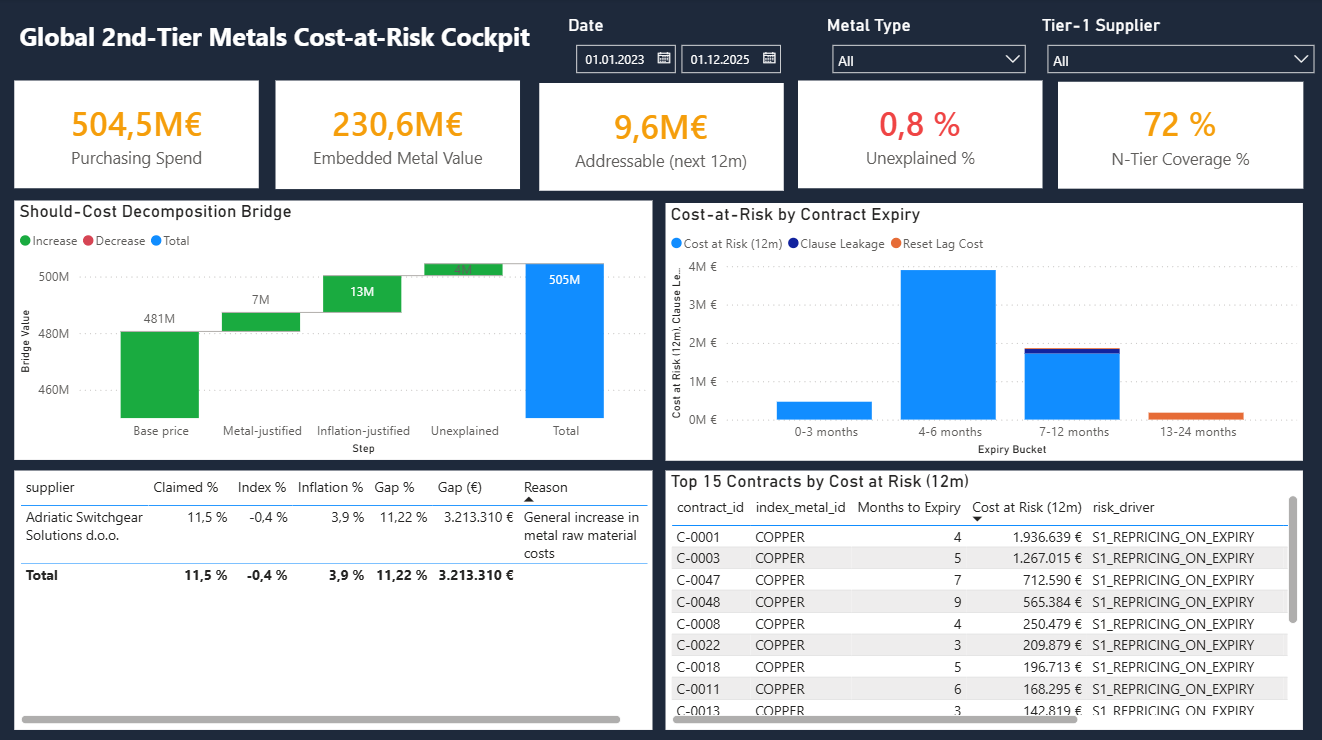

What the dashboard file says about the page in this screenshot:
{"tool":"powerbi","page":{"name":"Page 1","canvas":[1280,720],"ordinal":0},"visuals":[{"type":"textbox","box":[16.3,16.3,525,54.6],"z":0},{"type":"slicer","title":"Date","fields":{"Values":["dim_date.year_month"]},"box":[544.8,16.3,250.9,65],"z":1000},{"type":"slicer","title":"Metal Type","fields":{"Values":["dim_metal.metal_id"]},"box":[795.6,16.3,206.8,65],"z":2000},{"type":"slicer","title":"Tier-1 Supplier","fields":{"Values":["dim_supplier_tier1.tier1_name"]},"box":[1002.4,16.3,277.6,65],"z":3000},{"type":"cardVisual","fields":{"Data":["Measures_Spend.Purchasing Spend"]},"box":[16.3,80,236,104],"z":4000},{"type":"cardVisual","fields":{"Data":["Measures_Spend.Embedded Metal Value"]},"box":[268,80.1,236,104.5],"z":5000},{"type":"cardVisual","fields":{"Data":["Measures_Cost-at-Risk.Total Addressable"]},"box":[522.8,81.5,235.7,104.1],"z":6000},{"type":"cardVisual","fields":{"Data":["Measures_Should-Cost.Unexplained %"]},"box":[772,80,236,104.1],"z":7000},{"type":"cardVisual","fields":{"Data":["Measures_N-Tier_Transparency.N-Tier Coverage %"]},"box":[1022.6,80.7,236.5,103],"z":8000},{"type":"waterfallChart","title":"Should-Cost Decomposition Bridge","fields":{"Category":["Bridge Steps.Step"],"Y":["Measures_Should-Cost.Bridge Value"]},"box":[16,196,616,250],"z":9000},{"type":"columnChart","title":"Cost-at-Risk by Contract Expiry","fields":{"Category":["fact_cost_at_risk.Expiry Bucket"],"Y":["Measures_Cost-at-Risk.Cost at Risk (12m)","Measures_Cost-at-Risk.Clause Leakage","Measures_Cost-at-Risk.Reset Lag Cost"]},"box":[644.2,197.6,615,249],"z":10000},{"type":"tableEx","fields":{"Values":["fact_surcharge_claims.tier1_name","Sum(fact_surcharge_claims.claimed_surcharge_pct)","Sum(fact_surcharge_claims.justified_by_index_pct)","Sum(fact_surcharge_claims.justified_by_inflation_pct)","Sum(fact_surcharge_claims.unexplained_pct)","Sum(fact_surcharge_claims.annualised_unexplained_eur)","fact_surcharge_claims.justification_text"]},"box":[16,456,616,250],"z":11000},{"type":"tableEx","title":"Top 15 Contracts by Cost at Risk (12m)","fields":{"Values":["fact_cost_at_risk.contract_id","fact_cost_at_risk.index_metal_id","fact_cost_at_risk.months_to_expiry","Measures_Cost-at-Risk.Cost at Risk (12m)","fact_cost_at_risk.risk_driver","fact_cost_at_risk.mitigation"]},"box":[644,456,615,250],"z":12000}]}

Visuals, with their boxes in screenshot pixels (x1, y1, x2, y2), scaled from the page's 1280x720 canvas onto the 1322x740 screenshot:
textbox: bbox=[17, 17, 559, 73]
"Date" slicer: bbox=[563, 17, 822, 84]
"Metal Type" slicer: bbox=[822, 17, 1035, 84]
"Tier-1 Supplier" slicer: bbox=[1035, 17, 1321, 84]
cardVisual - Measures_Spend.Purchasing Spend: bbox=[17, 82, 261, 189]
cardVisual - Measures_Spend.Embedded Metal Value: bbox=[277, 82, 521, 190]
cardVisual - Measures_Cost-at-Risk.Total Addressable: bbox=[540, 84, 783, 191]
cardVisual - Measures_Should-Cost.Unexplained %: bbox=[797, 82, 1041, 189]
cardVisual - Measures_N-Tier_Transparency.N-Tier Coverage %: bbox=[1056, 83, 1300, 189]
"Should-Cost Decomposition Bridge" waterfallChart: bbox=[17, 201, 653, 458]
"Cost-at-Risk by Contract Expiry" columnChart: bbox=[665, 203, 1301, 459]
tableEx - fact_surcharge_claims.tier1_name x Sum(fact_surcharge_claims.claimed_surcharge_pct): bbox=[17, 469, 653, 726]
"Top 15 Contracts by Cost at Risk (12m)" tableEx: bbox=[665, 469, 1300, 726]
